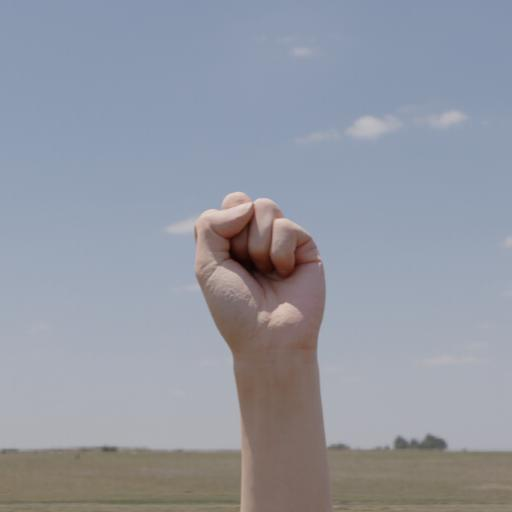S: (185, 175, 351, 366)
